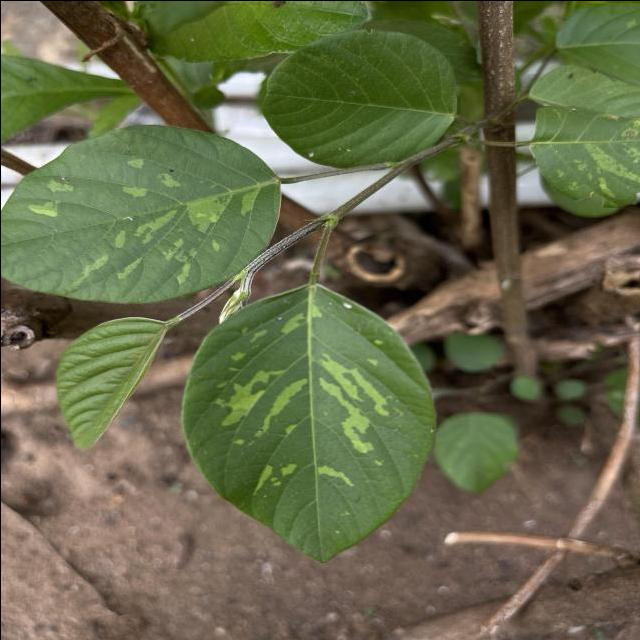Desmodium gangeticum: (176, 279, 440, 565), (0, 120, 283, 306)
